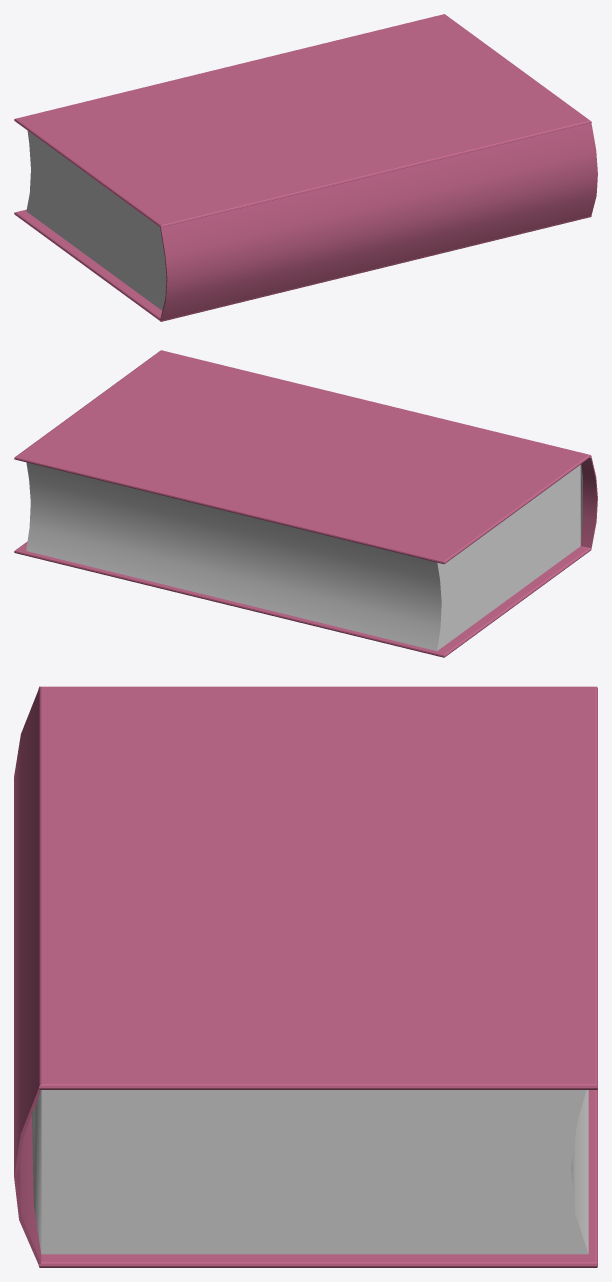
File: sweethome3d-contributions-book-308.glb
3 renders of one model, top to bottom at view 1: azimuth 30°, elevation 25°; view 2: azimuth 150°, elevation 25°; view 3: azimuth 270°, elevation 25°, orthographic. The views are drawn at different scales.
Parts seen in each view (by area): view 1: face_avant, tranche, pages, face_arriere; view 2: face_avant, pages, face_arriere, tranche; view 3: face_avant, pages, tranche, face_arriere.
Part boxes in pixels (x1,y1,x2,y2): face_avant: (14, 14, 591, 227); tranche: (160, 123, 597, 321); pages: (26, 131, 167, 310); face_arriere: (14, 209, 591, 321); face_avant: (14, 350, 590, 564); pages: (26, 462, 582, 650); face_arriere: (14, 541, 590, 657); tranche: (581, 457, 596, 548); face_avant: (38, 686, 597, 1089); pages: (32, 1090, 588, 1254); tranche: (14, 690, 40, 1264); face_arriere: (38, 1089, 597, 1267).
Size of the model in its own units: 17.61 by 3.77 by 10.86.
